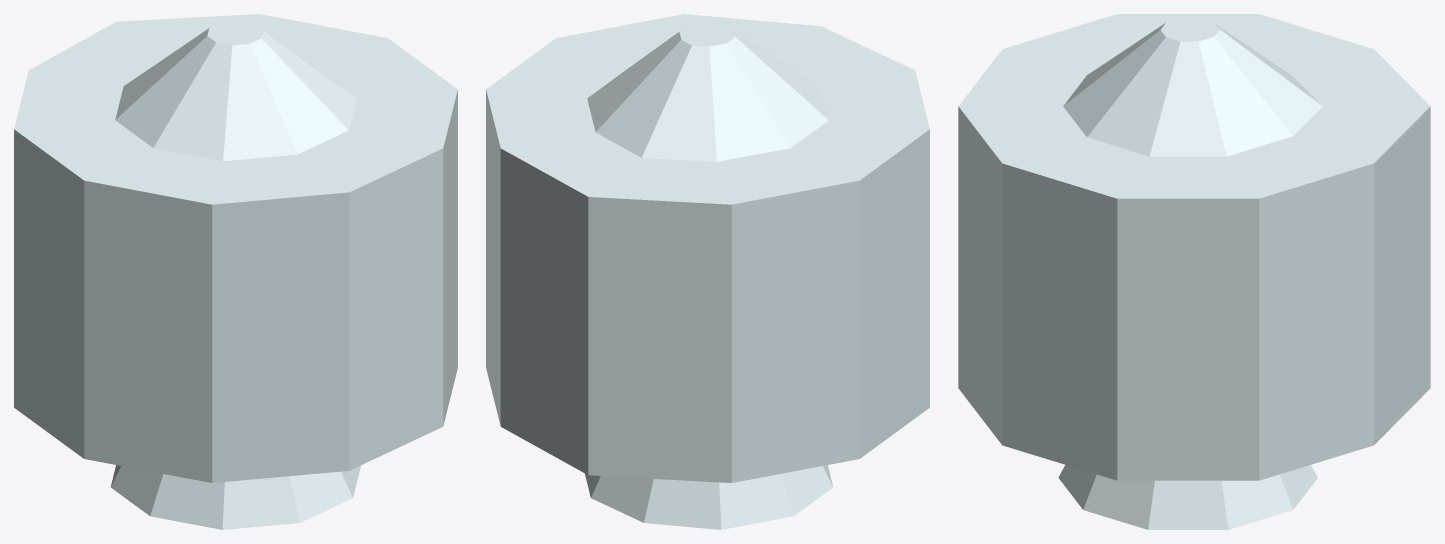
File: Lander_1_Collison.fbx
3 views of the same model, side by side, from view 1: azimuth 30°, elevation 25°; view 2: azimuth 150°, elevation 25°; view 3: azimuth 270°, elevation 25° (orthographic).
Parts seen in each view (by area): view 1: Cylinder.010, Cylinder.011, Cylinder.012; view 2: Cylinder.010, Cylinder.011, Cylinder.012; view 3: Cylinder.010, Cylinder.011, Cylinder.012.
Boxes of the visible parts, <box> form: Cylinder.010: <box>14,14,457,482</box>; Cylinder.011: <box>115,21,356,161</box>; Cylinder.012: <box>110,465,360,529</box>; Cylinder.010: <box>486,14,929,482</box>; Cylinder.011: <box>587,22,828,161</box>; Cylinder.012: <box>585,465,833,529</box>; Cylinder.010: <box>958,14,1430,480</box>; Cylinder.011: <box>1063,18,1322,156</box>; Cylinder.012: <box>1058,465,1317,529</box>.
Bounding box in the file's own units: 11.96 × 13.53 × 12.92.
